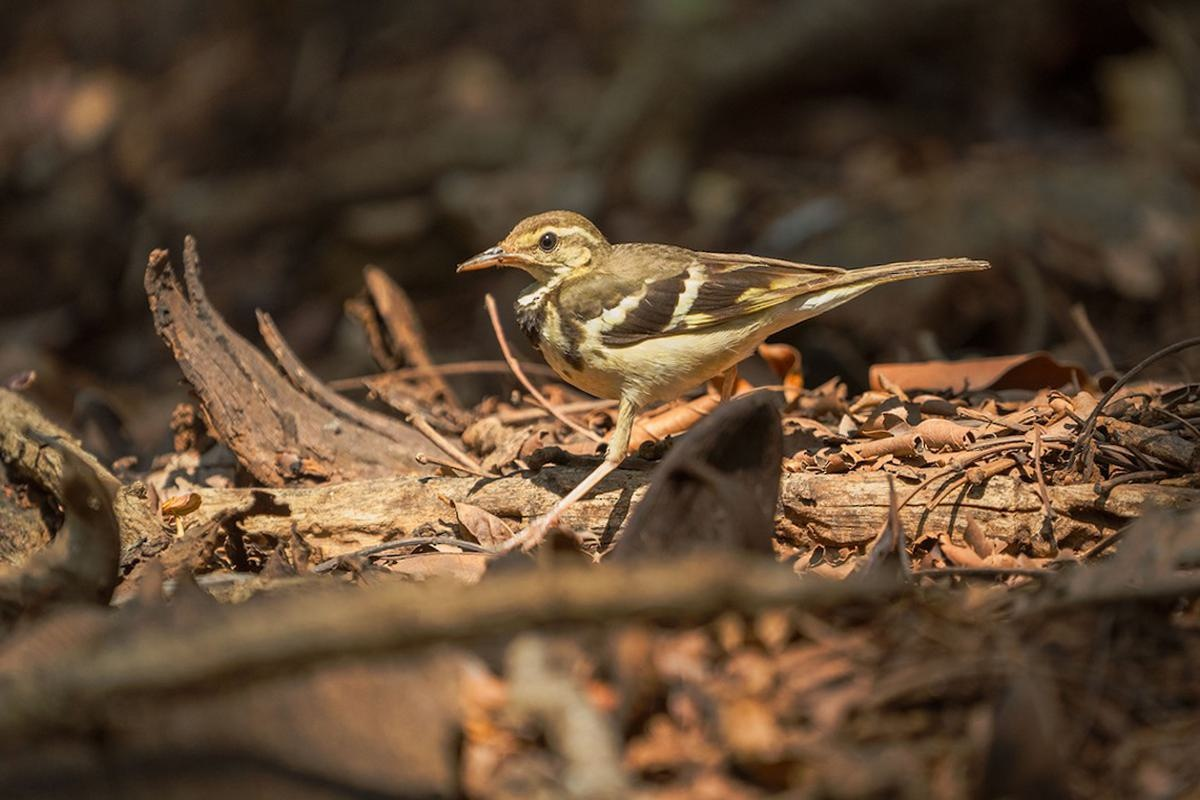wagtail: (437, 153, 1001, 493)
